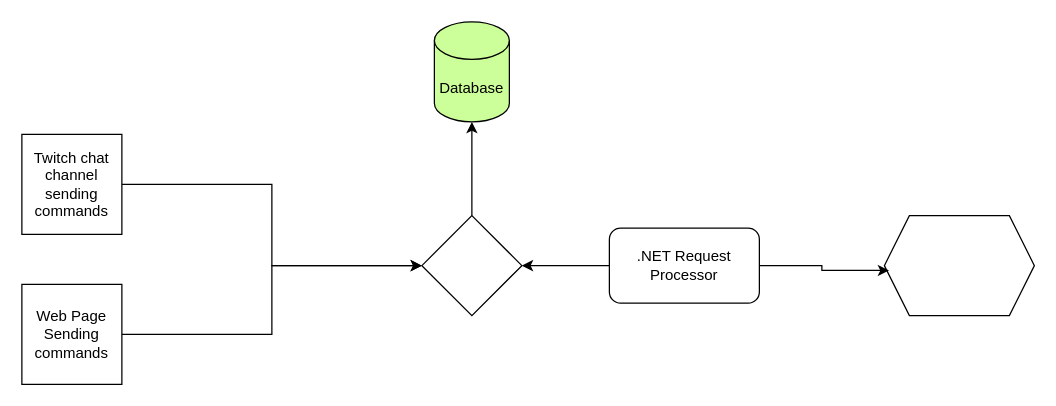
Some shapes in this 1056 by 406 pixel diagram are drawn without their labels. Each missing label, with the centre of its shape:
"Lights (changes colors, blinks, etc.)" belongs at (958,265).
"Web API PHP / Python?" belongs at (471,265).
